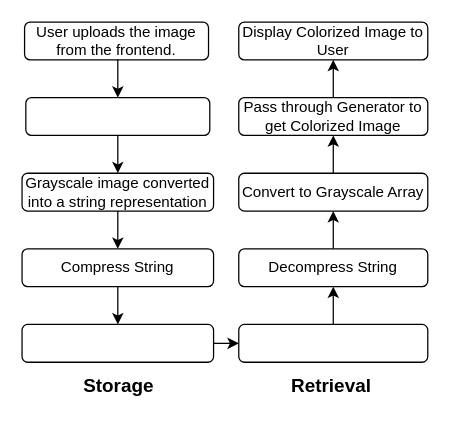
The diagram is 450 pixels wide and 447 high, and some of its shapes have lost their labels. Each missing label, with the box of its shape:
Convert to the 8-bit grayscale format: (25, 96, 210, 135)
Retrieve Compresses String: (238, 323, 428, 362)
Store string in DB along with other data: (21, 323, 214, 362)
